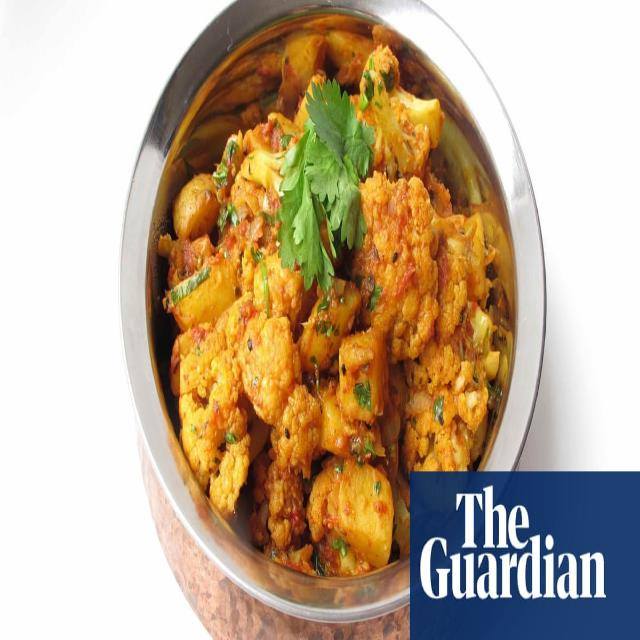aloo_gobi: (141, 69, 513, 458)
